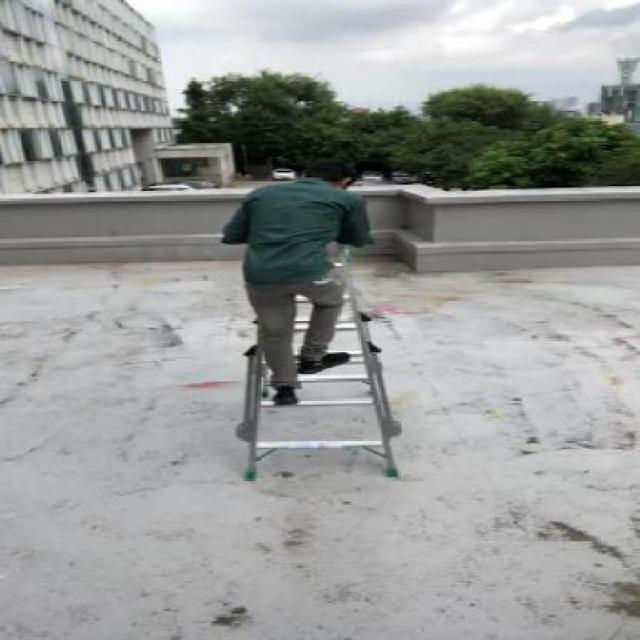hard hat: (217, 223, 428, 484)
vest: (200, 140, 392, 418)
